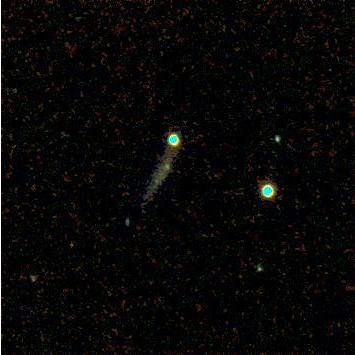star: (143, 167, 173, 197)
